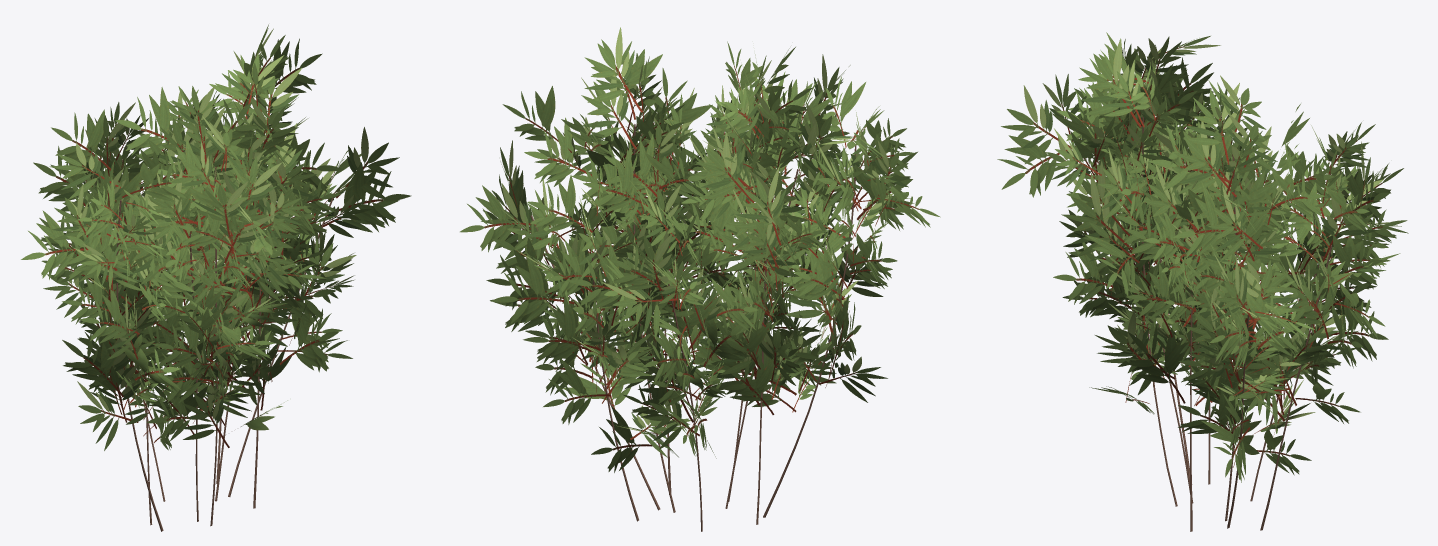
Rendered from bush_09.glb.
3 views of the same model, side by side, from view 1: azimuth 30°, elevation 25°; view 2: azimuth 150°, elevation 25°; view 3: azimuth 270°, elevation 25° (orthographic). The views are drawn at different scales.
Visible parts, largest first — view 1: mountain_willow_LOD0; view 2: mountain_willow_LOD0; view 3: mountain_willow_LOD0.
Boxes of the visible parts, bbox=[...] form: mountain_willow_LOD0: bbox=[21, 24, 411, 531]; mountain_willow_LOD0: bbox=[460, 27, 940, 531]; mountain_willow_LOD0: bbox=[997, 32, 1408, 531].
Size of the model in its own units: 1.21 by 1.26 by 1.04.
2 materials, 2 textured.
